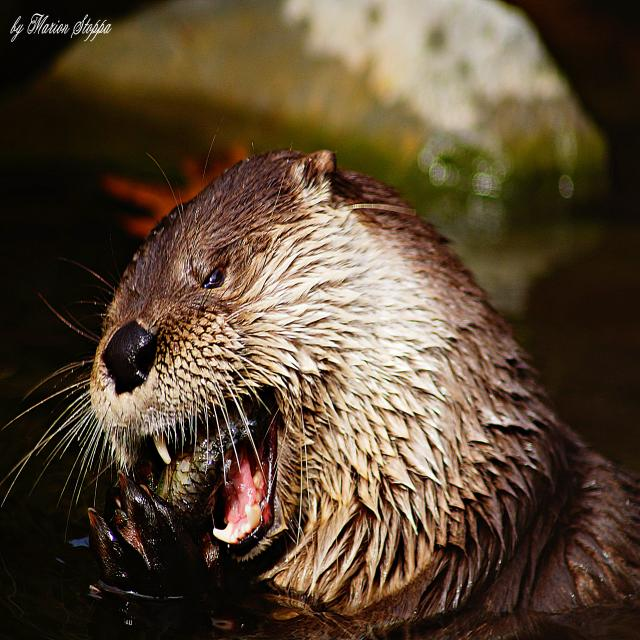otter: (93, 150, 633, 615)
